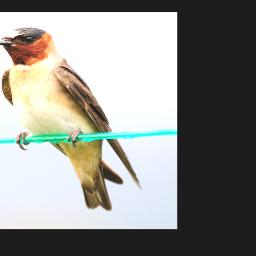Swallow: (0, 26, 143, 212)
